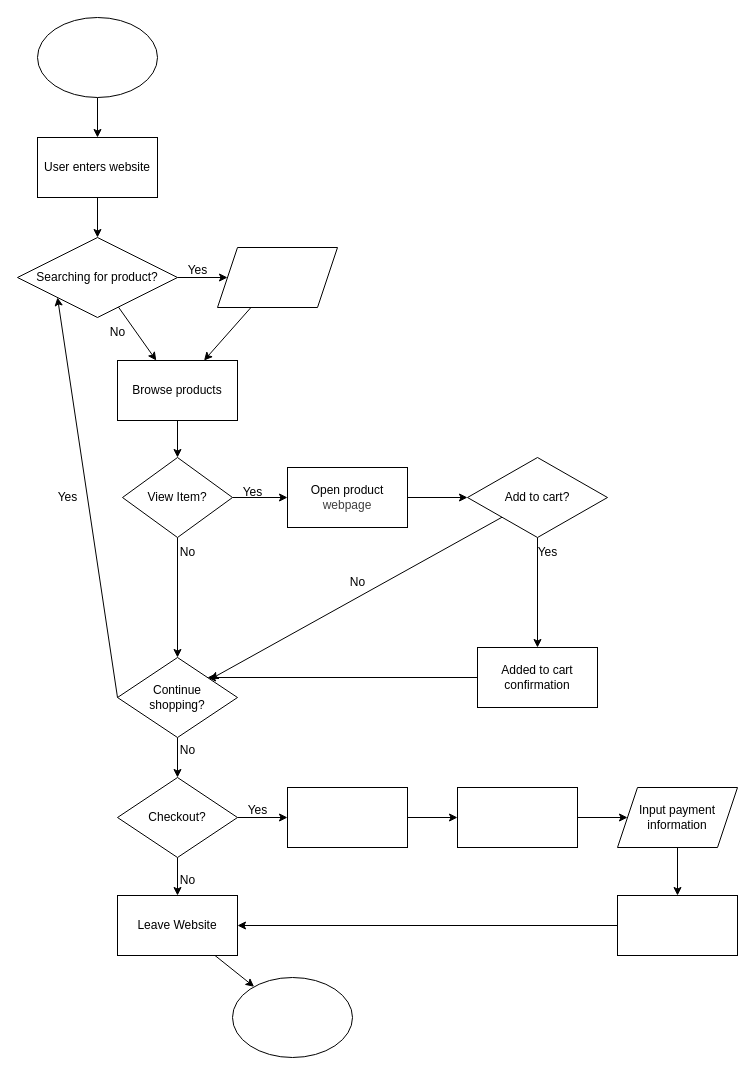
Image size: 755x1075. Some labels were removed from this diagram. Here are the shapes that lost their labels. From the top down, the centre of each, then its label:
point (97, 57): Start
point (277, 277): Type into search bar
point (347, 817): View Cart
point (517, 817): View Payment
point (677, 925): Order confirmation and email
point (292, 1017): End
